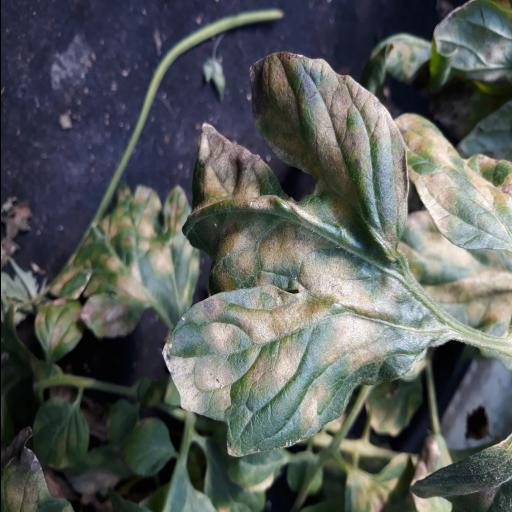disease_tomato: (162, 50, 408, 458), (70, 186, 200, 338)
